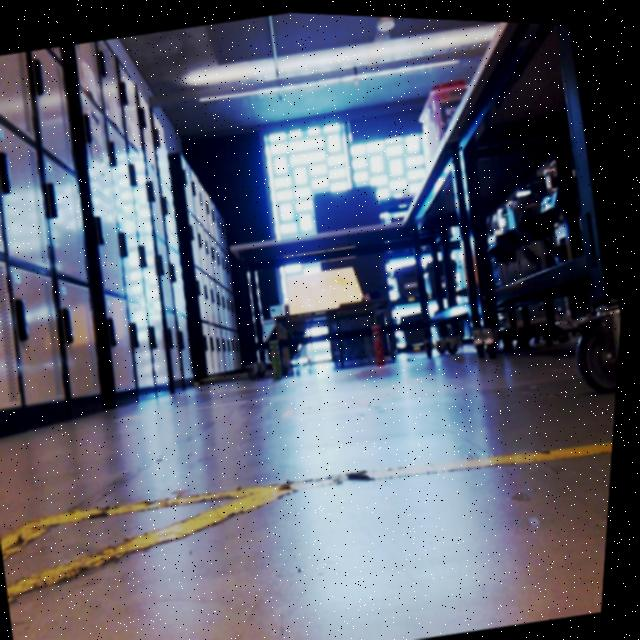greenpringles: (258, 321, 308, 391)
redpringles: (355, 306, 408, 379)
